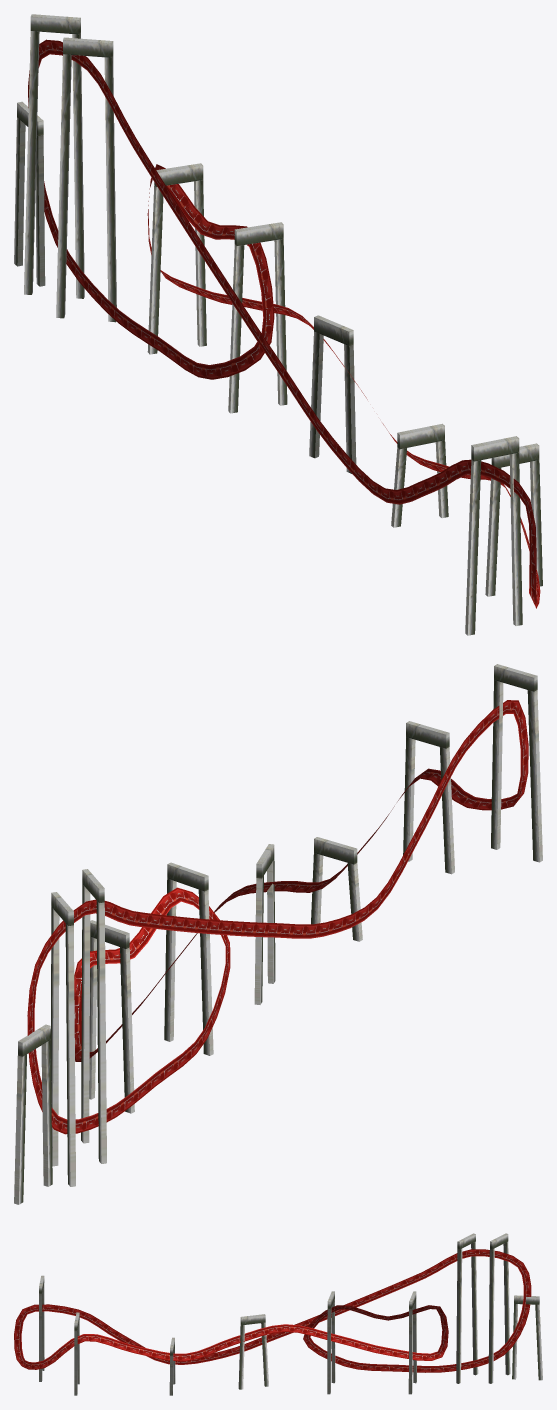
The model's file is rollercoaster_red.glb.
3 views of the same model, one above another, from view 1: azimuth 30°, elevation 25°; view 2: azimuth 150°, elevation 25°; view 3: azimuth 270°, elevation 25° (orthographic). The views are drawn at different scales.
Visible parts, largest first — view 1: rollercoaster_red; view 2: rollercoaster_red; view 3: rollercoaster_red.
Boxes of the visible parts, box(x1,y1,x2,y2) form: rollercoaster_red: box(14, 14, 542, 635); rollercoaster_red: box(14, 664, 542, 1204); rollercoaster_red: box(14, 1233, 542, 1395).
Size of the model in its own units: 24.53 by 60.46 by 205.
2 materials, 2 textured.
